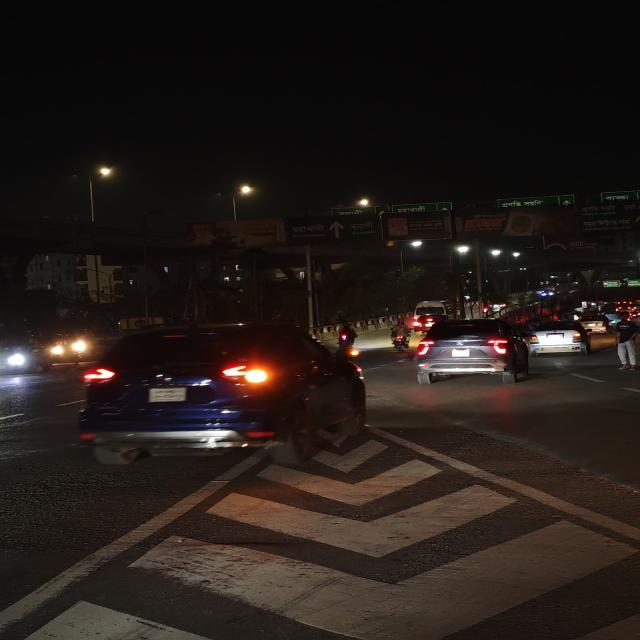car: (72, 322, 374, 474), (412, 317, 537, 387), (531, 319, 594, 357)
motorcycle: (333, 321, 365, 361), (384, 322, 414, 352)
pedestrian: (612, 314, 640, 373)
